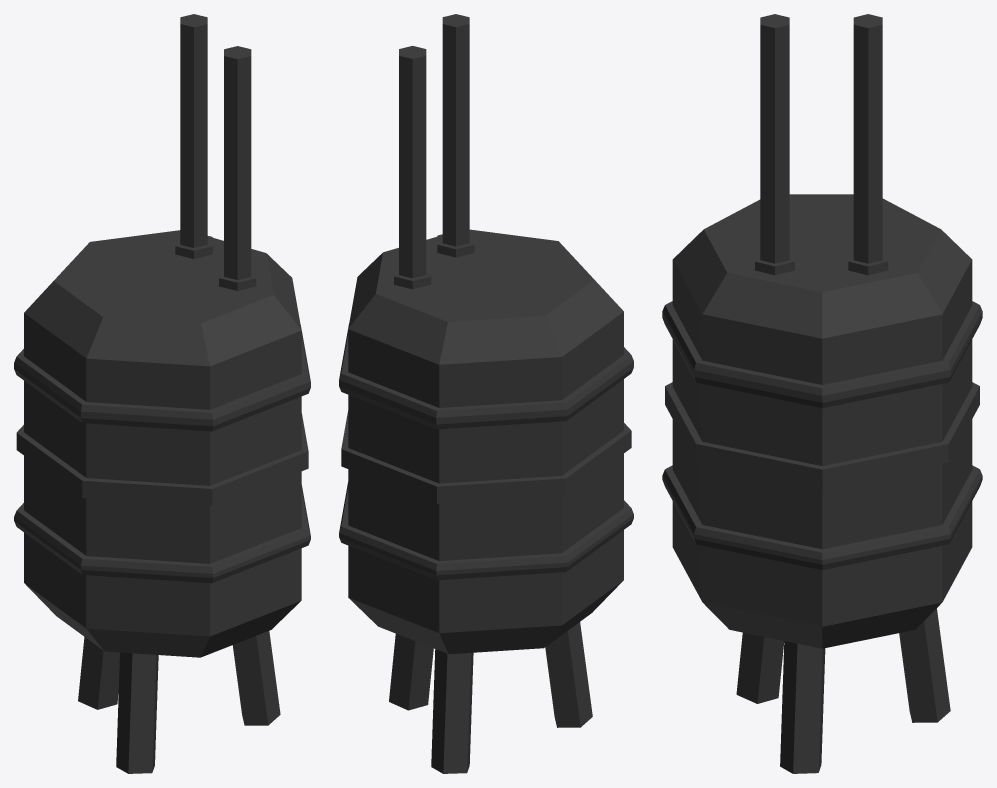
Rendered from boiler_01.fbx.
The picture shows the model from 3 angles, left to right: view 1: azimuth 30°, elevation 25°; view 2: azimuth 150°, elevation 25°; view 3: azimuth 270°, elevation 25°; orthographic projection. The views are drawn at different scales.
Visible parts, largest first — view 1: Boiler_01; view 2: Boiler_01; view 3: Boiler_01.
Boxes of the visible parts, x1=… form: Boiler_01: x1=14, y1=14, x2=310, y2=773; Boiler_01: x1=339, y1=14, x2=633, y2=773; Boiler_01: x1=662, y1=14, x2=982, y2=773.
Size of the model in its own units: 27.62 by 28.33 by 71.37.
